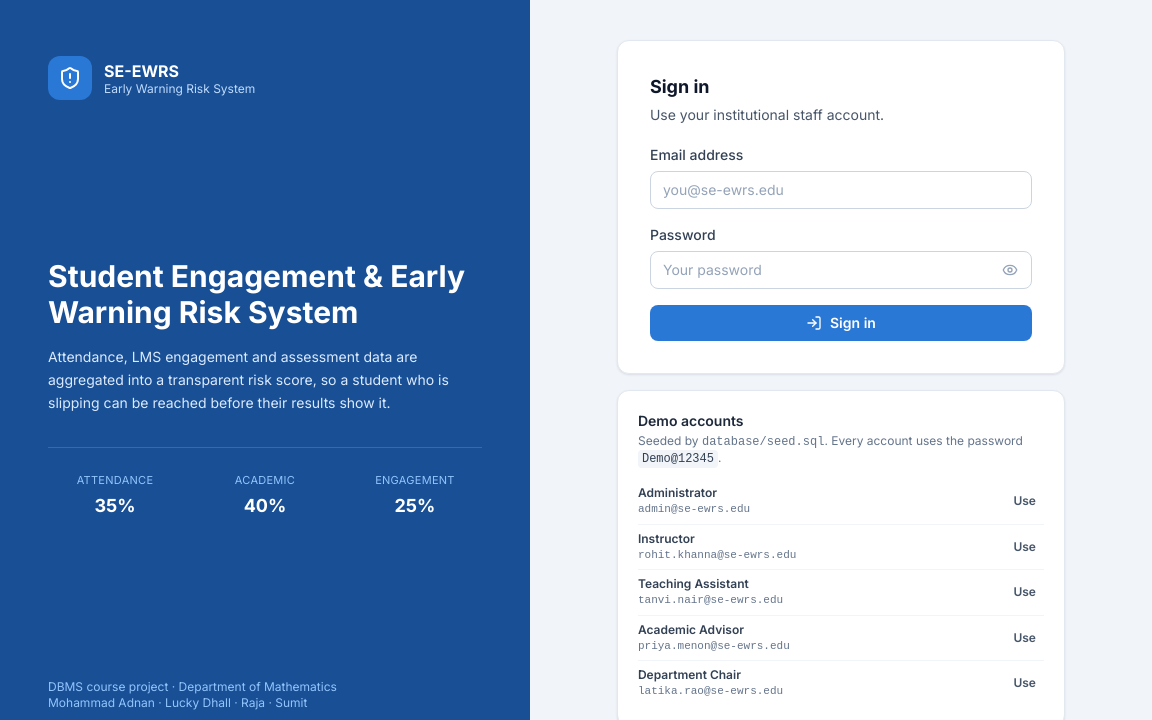
Scenario: LoginPage authentication › shows the server's message verbatim when credentials are wrong
Type "admin@se-ewrs.edu" into the field labelled "Email address" at (841, 190), box [650, 171, 1032, 209]
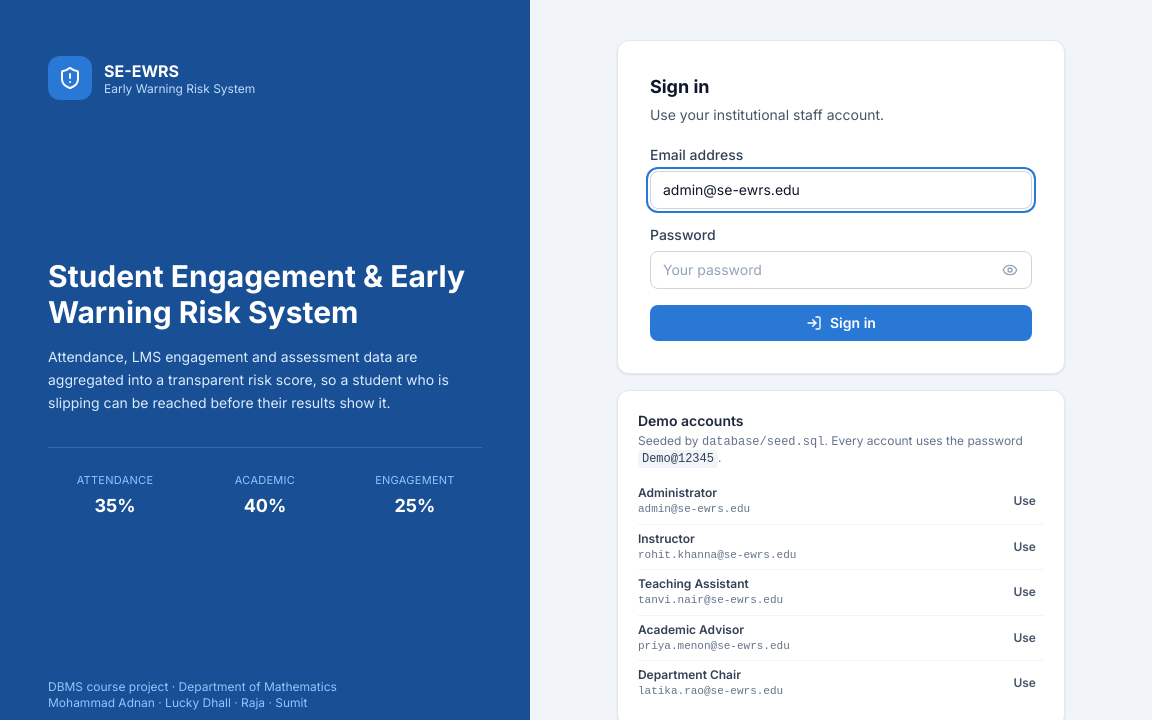
Type "wrong-password" into the password field labelled "Password" at (841, 270), box [650, 251, 1032, 289]
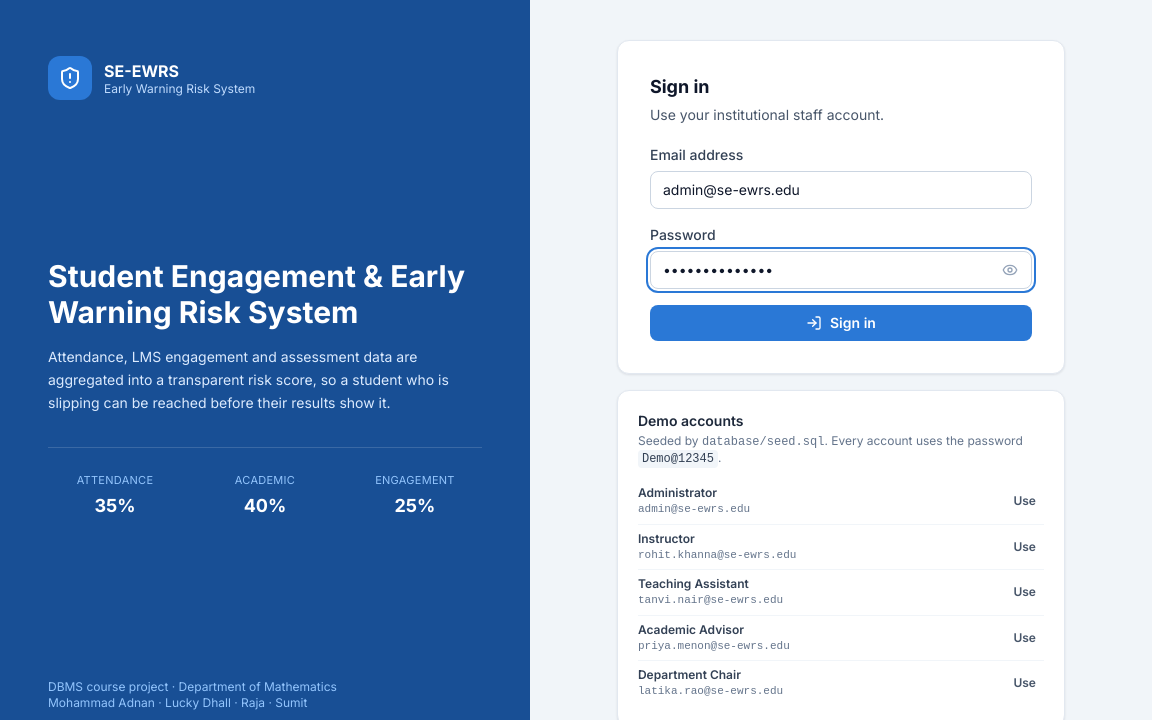
Click the button "Sign in" at (841, 323), box [650, 305, 1032, 341]
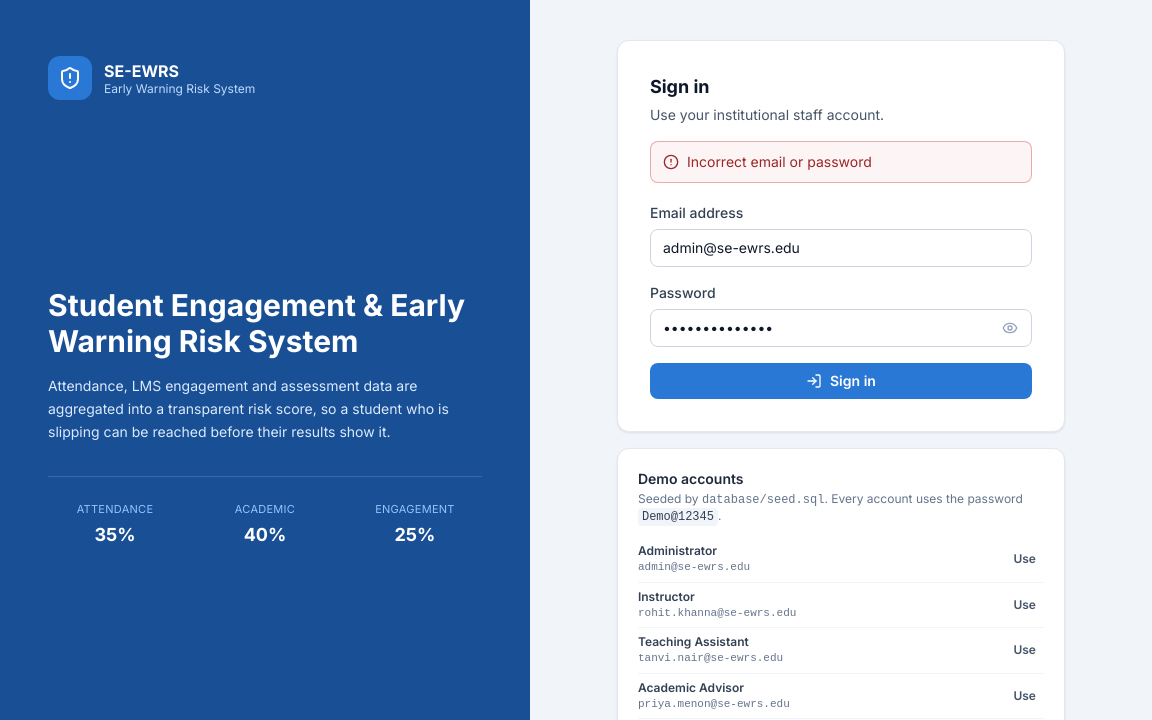
Expected: the message reads "Incorrect email or password", [687, 153, 872, 170]
